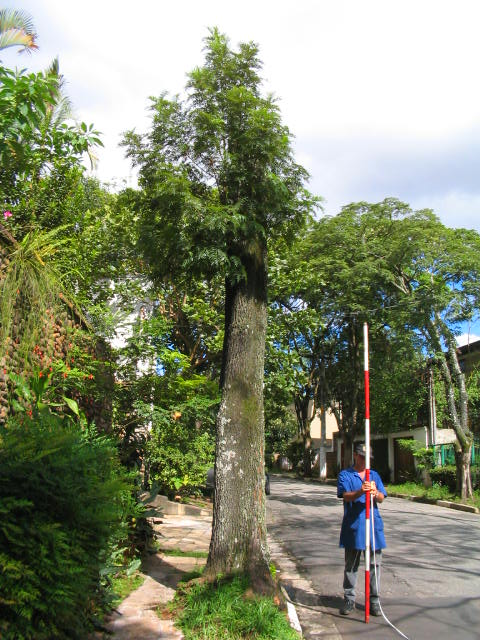crown: (117, 31, 324, 289), (291, 202, 479, 351)
stem: (194, 287, 292, 608), (445, 448, 478, 498)
stick: (358, 322, 374, 624)
tree: (116, 30, 326, 610), (287, 201, 480, 500)
